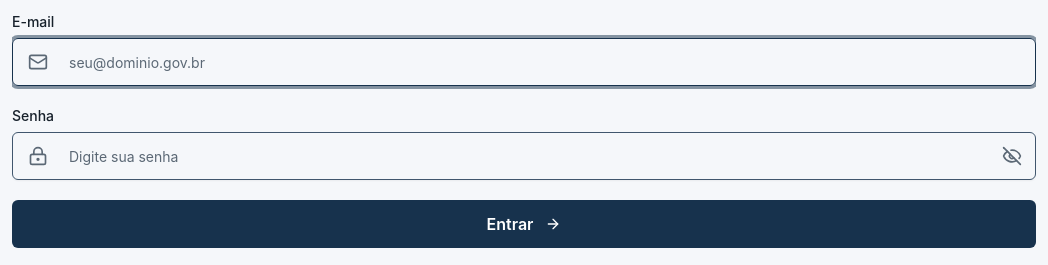
Test: LoginForm › reveals and conceals the existing password input without losing an autofilled value
Step 1. Type "password-manager-value" into the password field labelled "Senha" → (524, 156), box top-left (12, 132), bottom-right (1036, 180)
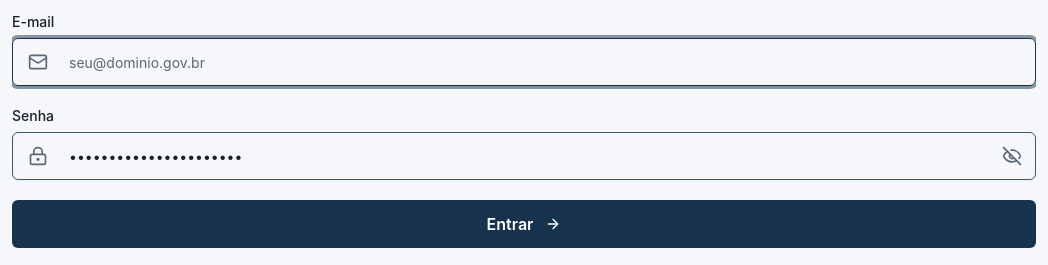
Step 2. Click the button named "Mostrar senha" → (1012, 156), box top-left (992, 136), bottom-right (1032, 176)
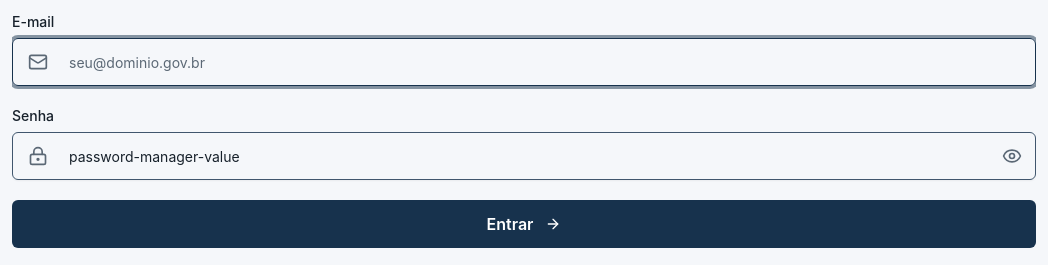
Result: the field labelled "Senha" shows its text at top-left (12, 132), bottom-right (1036, 180)
Step 3. Click the button named "Ocultar senha" → (1012, 156), box top-left (992, 136), bottom-right (1032, 176)
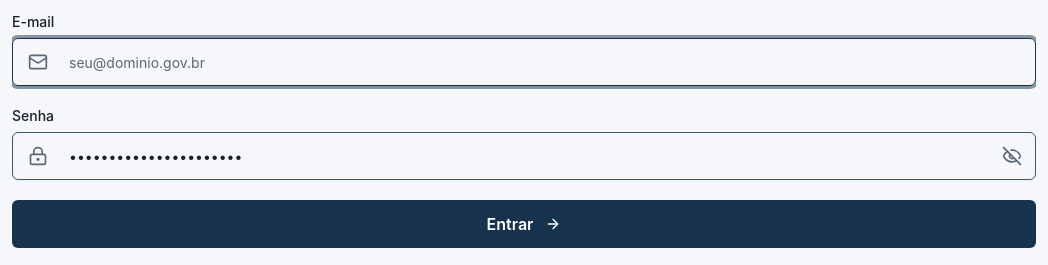
Result: the password field labelled "Senha" hides its text at top-left (12, 132), bottom-right (1036, 180)
